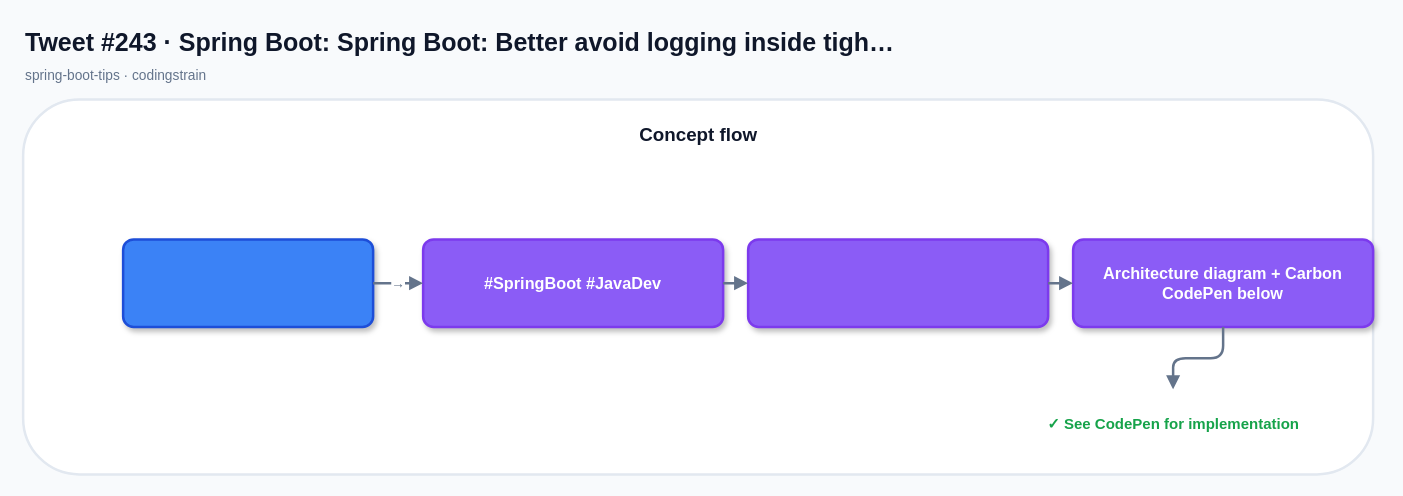
Image size: 1403x496. Some labels were removed from this diagram. The shapes that lost their labels are listed below. From the top down, each one's centre as x and y in pixels, then its label:
point 248,284: Problem / context
point 898,284: Runnable sample: `spring-boot-tips`
